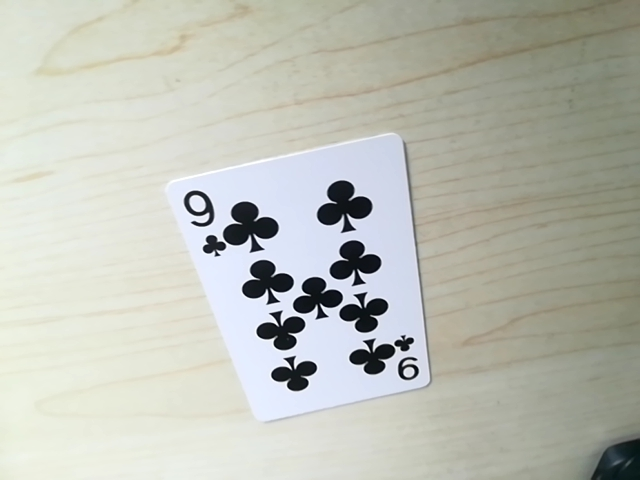mh 9: (179, 186, 222, 248), (378, 342, 427, 387)
